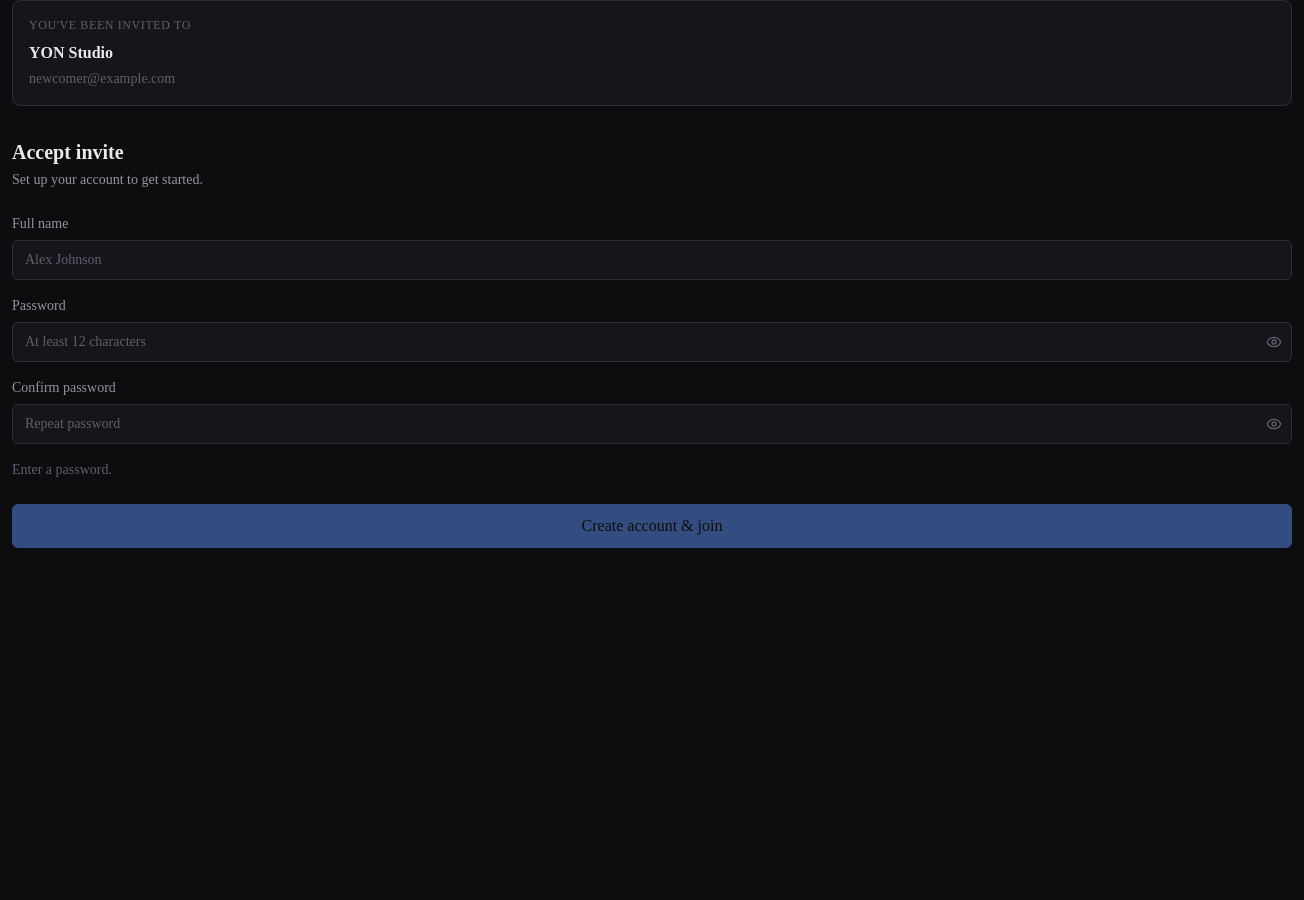
Test case: a blocked submit is never silent › names the missing character classes
The image size is (1304, 900).
Type "abcdefghijklmnop" into the password field labelled "Password".
click(652, 342); type("abcdefghijklmnop")  # box left=12, top=322, right=1292, bottom=362
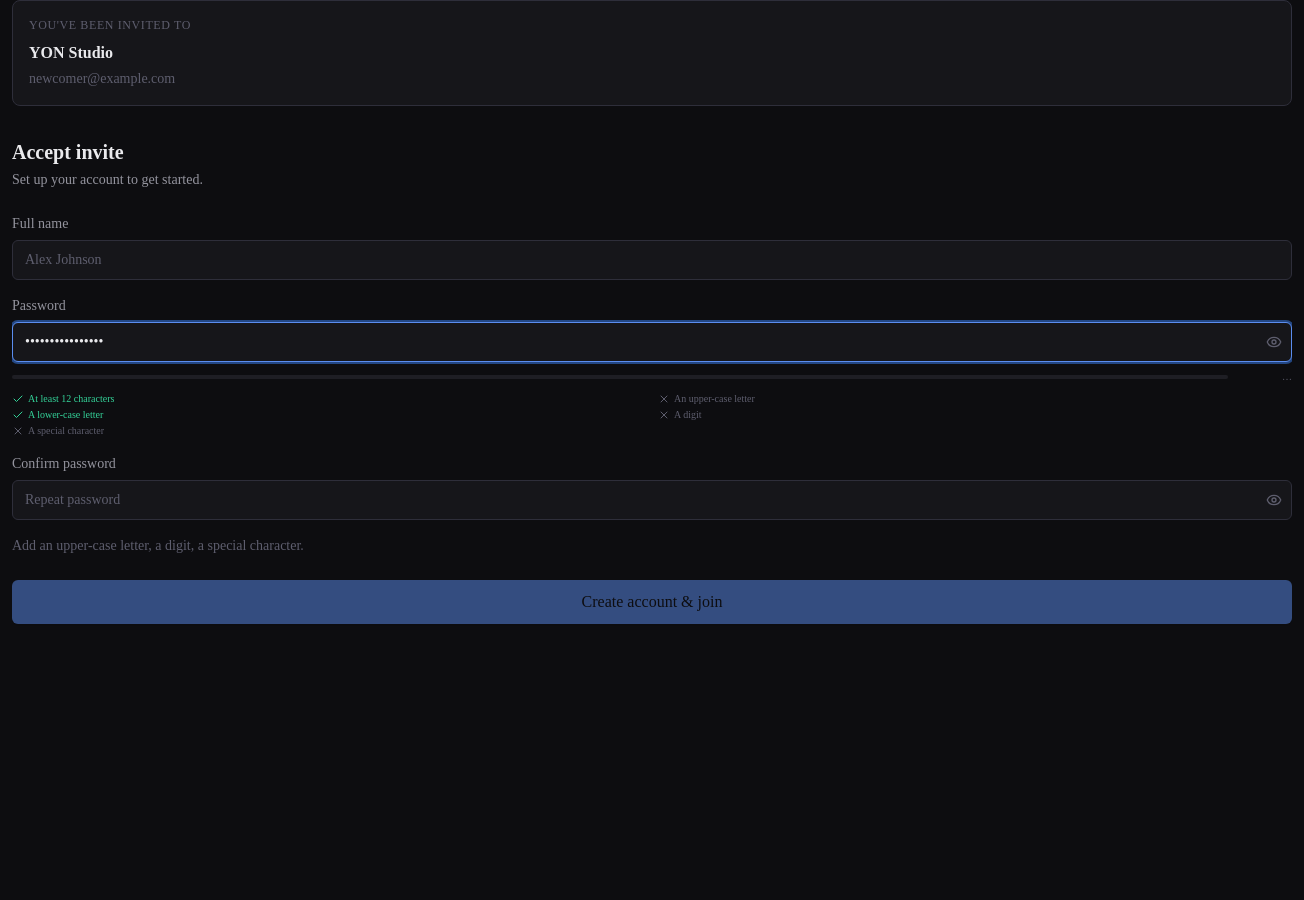
Result: the message with test id "submit-block-reason" shows "upper-case letter" at left=12, top=538, right=304, bottom=553
